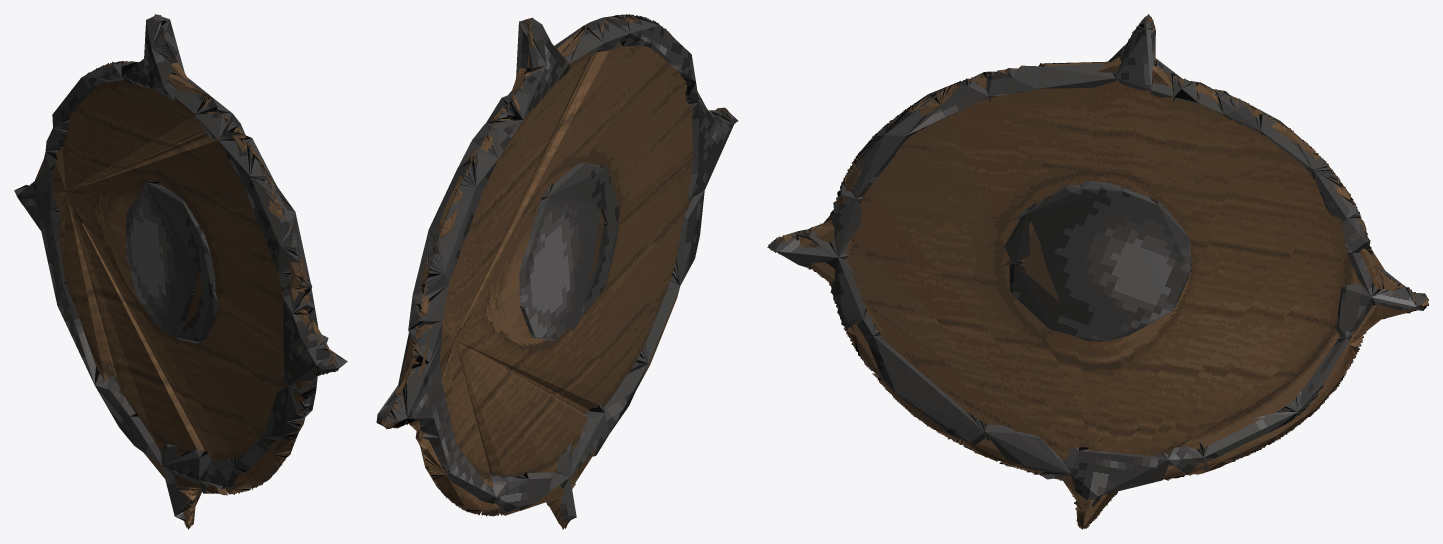
File: round-shield.glb
3 renders of one model, left to right at view 1: azimuth 30°, elevation 25°; view 2: azimuth 150°, elevation 25°; view 3: azimuth 270°, elevation 25°, orthographic. The views are drawn at different scales.
Visible parts, largest first — view 1: face, plate; view 2: face, plate; view 3: face, plate.
Part boxes in pixels (<box>): face: <box>24,14,339,529</box>; plate: <box>14,14,347,521</box>; face: <box>381,14,731,529</box>; plate: <box>376,14,738,522</box>; face: <box>767,16,1428,529</box>; plate: <box>769,14,1428,506</box>.
Size of the model in its own units: 0.0408 by 0.6131 by 0.7158.
Materials: 2 (2 with a texture image).
